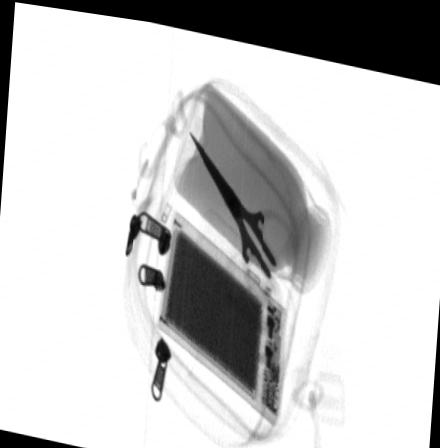Powerbank: (154, 201, 285, 417)
Scissors: (184, 119, 298, 321)
